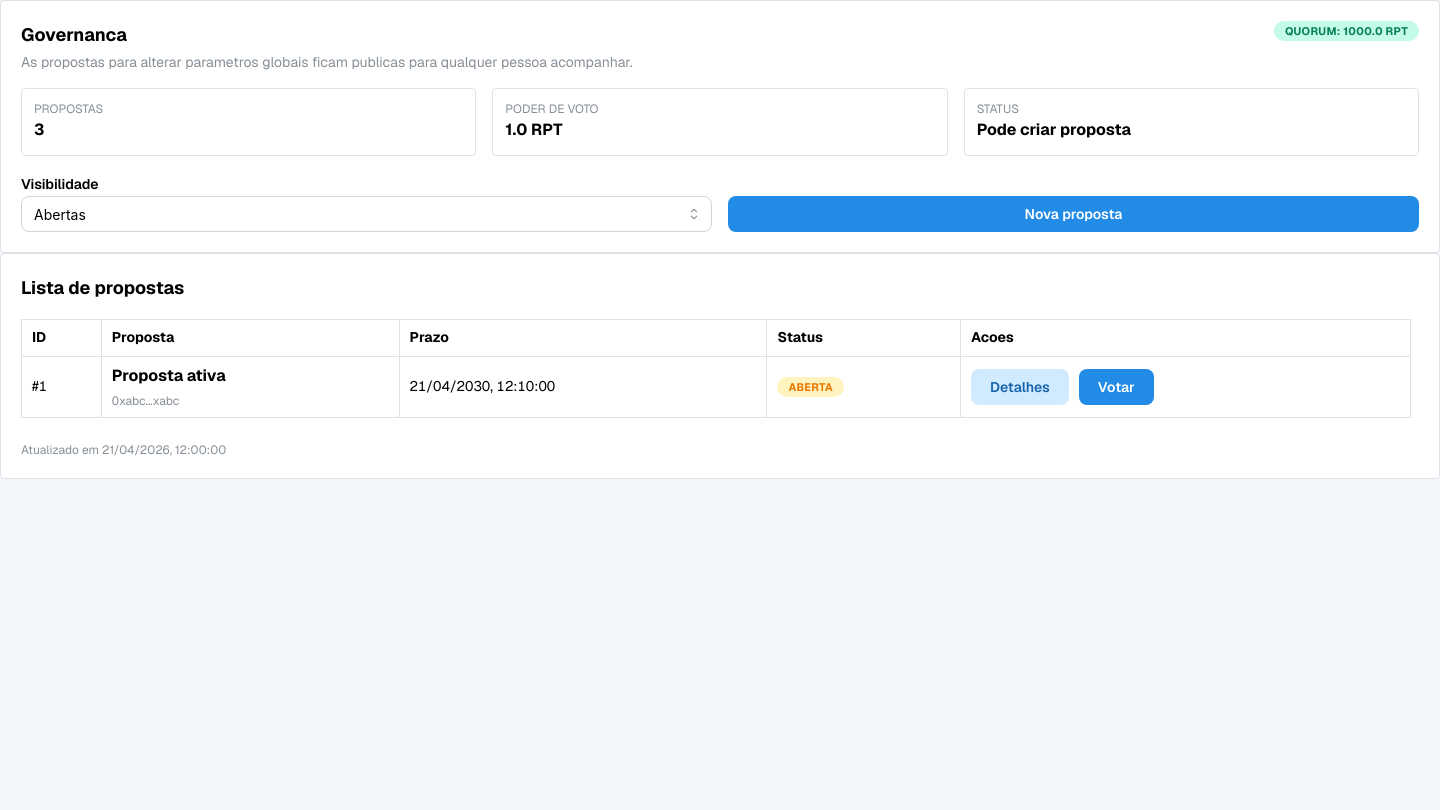
Test: GovernancePanelView › mostra o modal de detalhes e o modal de voto
The width and height of the screenshot is (1440, 810).
Click the button "Detalhes". click: (1020, 387)
box: [971, 369, 1069, 405]
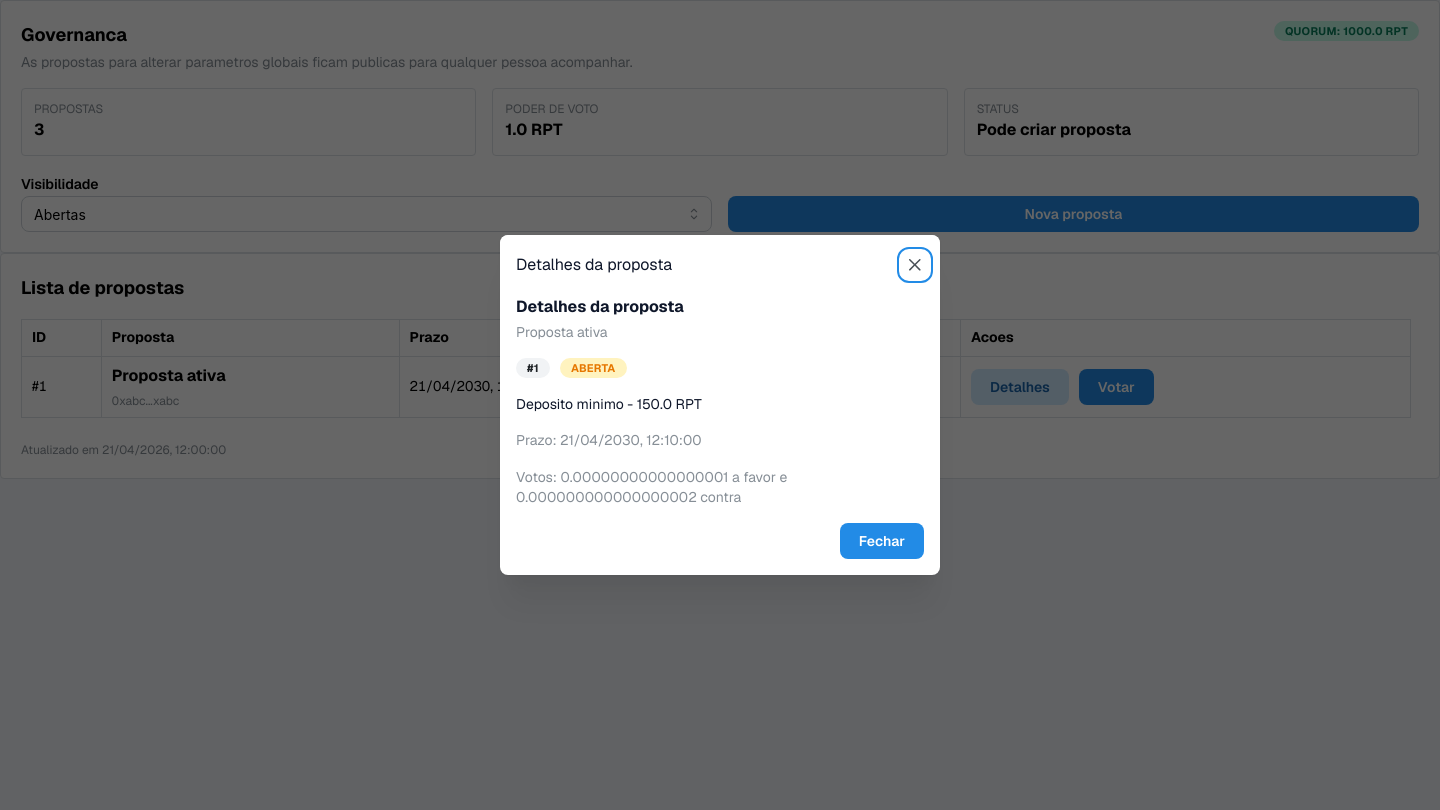
Check: the button "Sim" is not shown
Check: the heading "Detalhes da proposta" is shown, box [516, 257, 672, 273]
Check: the button "Fechar" is shown
Click the button "Fechar". click: (882, 541)
box: [840, 523, 924, 559]
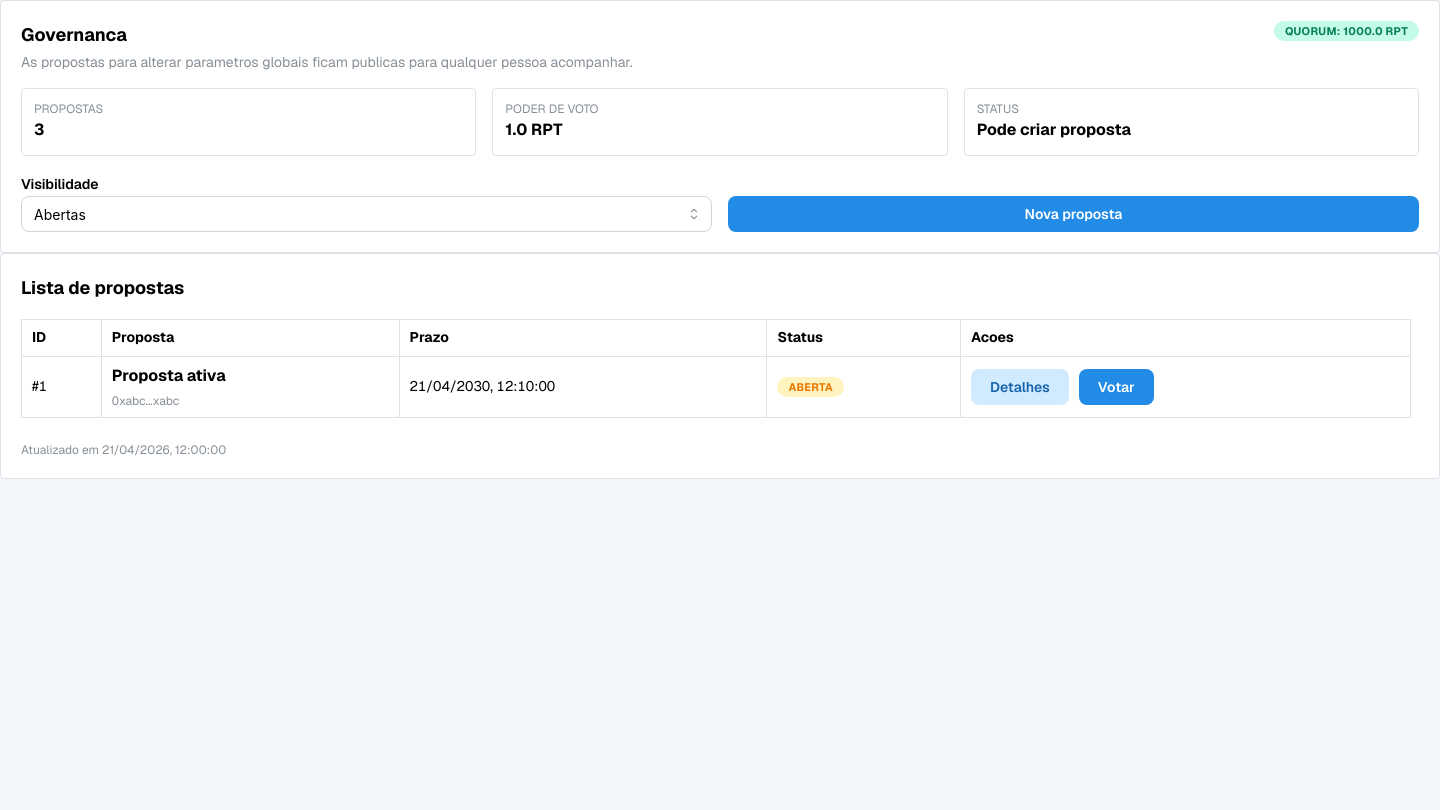
Check: the heading "Detalhes da proposta" is gone
Click the button "Votar". click: (1116, 387)
box: [1079, 369, 1154, 405]
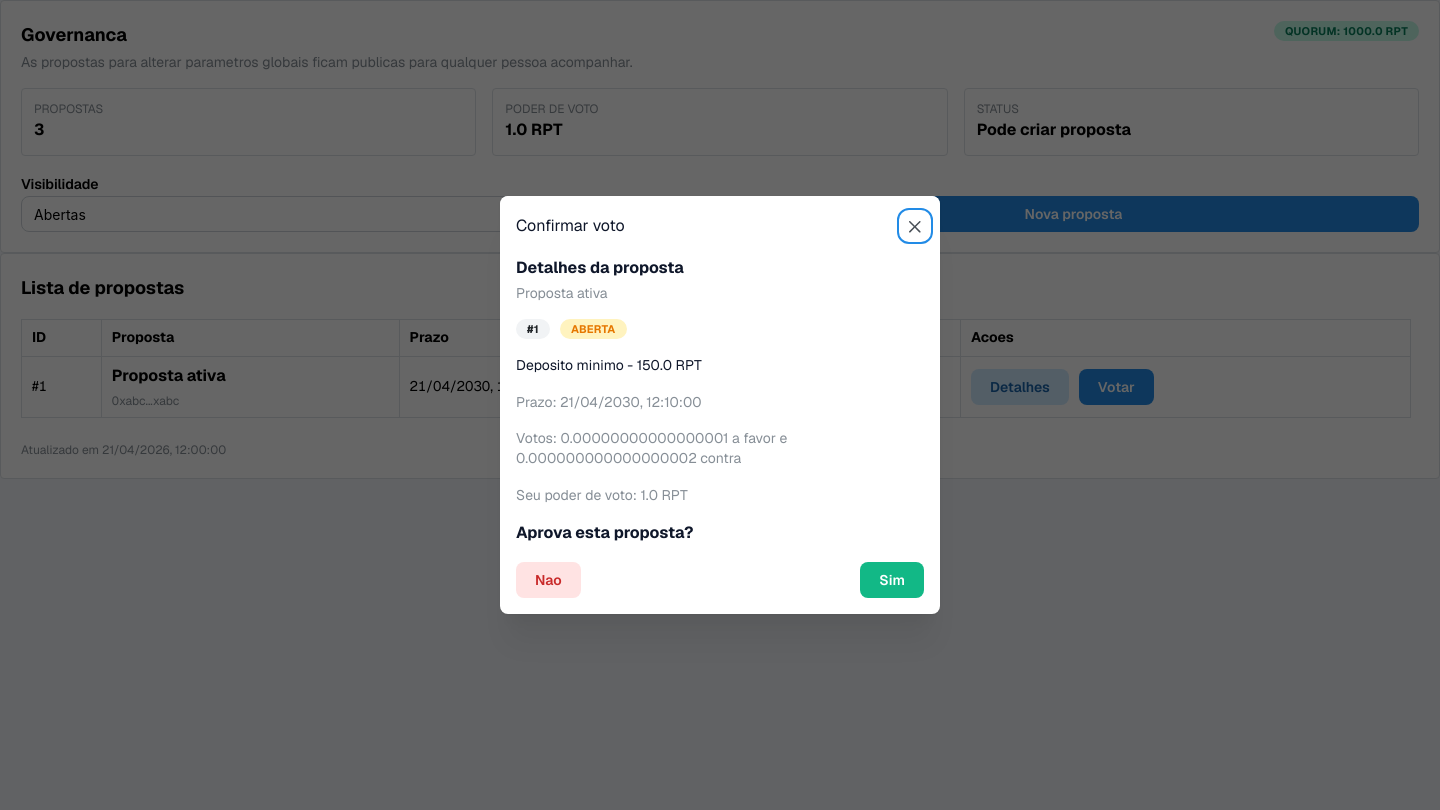
Check: the heading "Confirmar voto" is shown, box [516, 218, 625, 234]
Check: the text "Aprova esta proposta?" is shown, box [516, 522, 694, 543]
Check: the button "Sim" is shown, box [860, 562, 924, 598]
